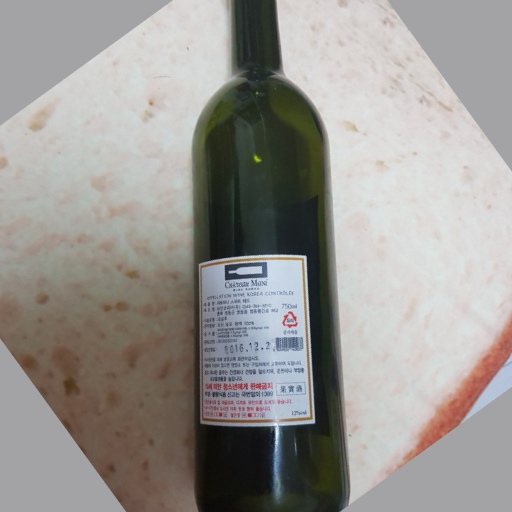Glass_2: (187, 1, 351, 512)
